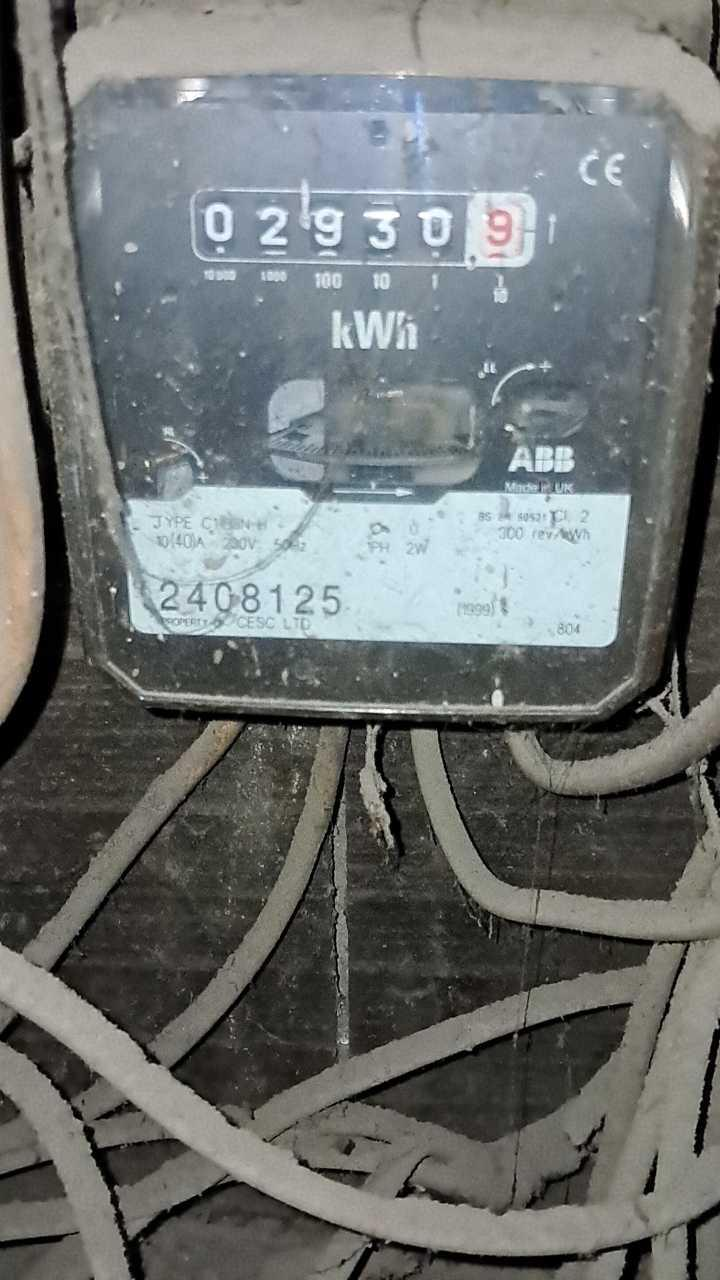meter_readings: (200, 197, 525, 261)
serial_number: (156, 581, 350, 615)
